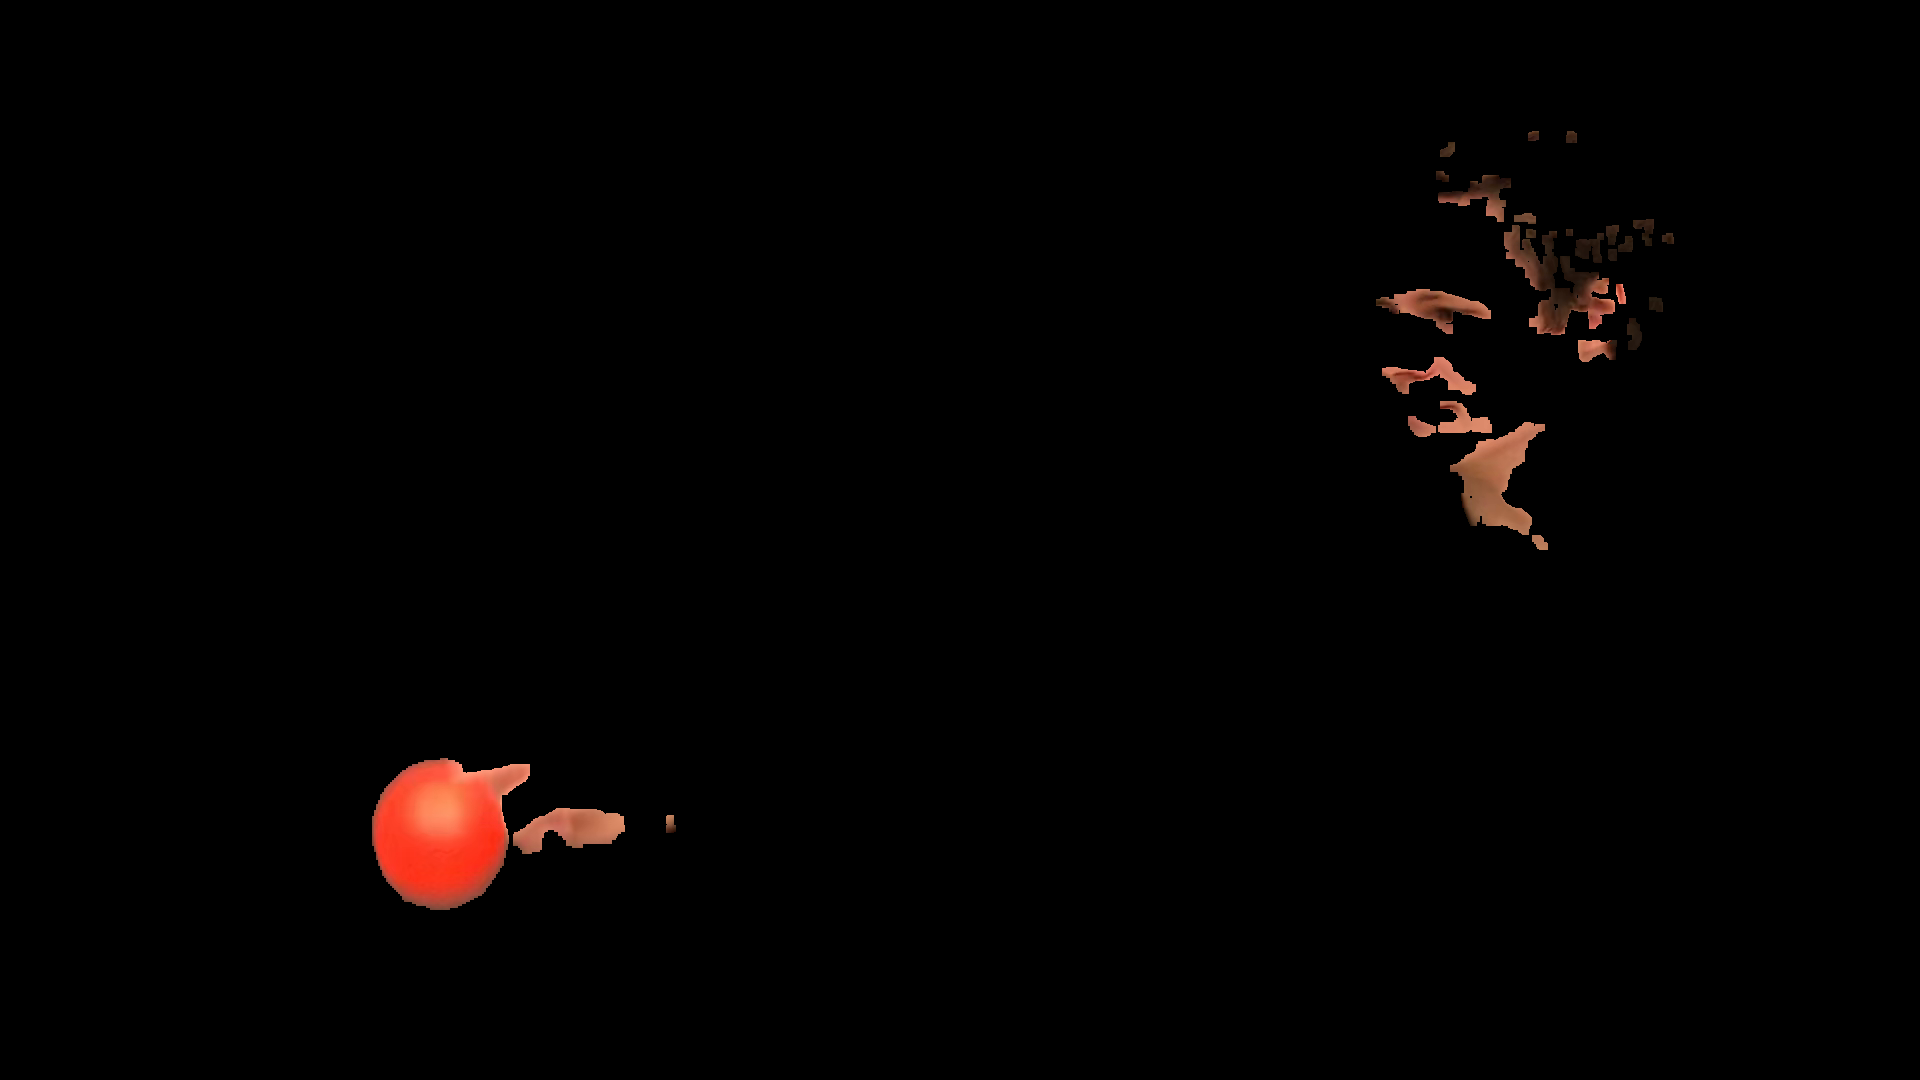Ball: (369, 765, 516, 911)
